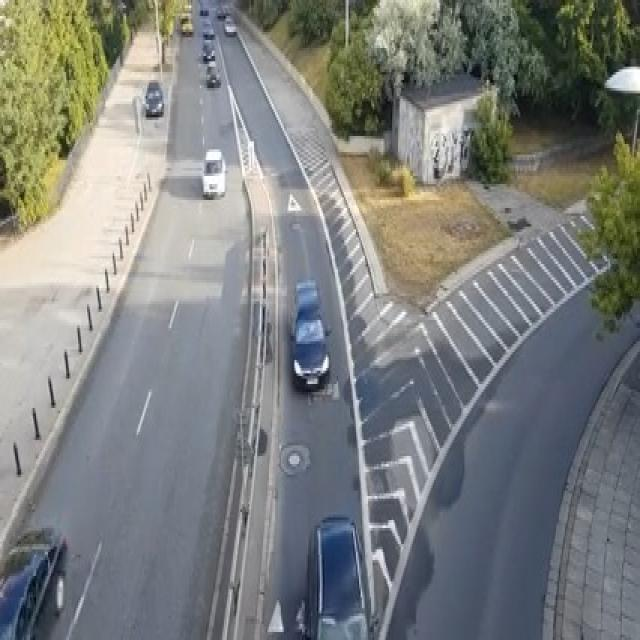car: (294, 512, 370, 637), (0, 526, 66, 638), (288, 278, 330, 390), (202, 147, 226, 197), (144, 80, 164, 115), (206, 61, 221, 85), (224, 13, 236, 35), (201, 43, 215, 61), (201, 27, 215, 42), (198, 5, 209, 16)
